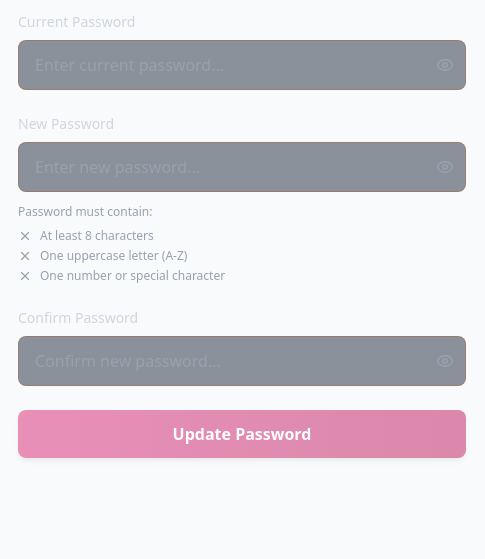
Test case: PasswordChangeForm › shows password mismatch error and disables submit button
This screenshot has width=485, height=559.
In the password field with placeholder "Enter current password...": {"x": 242, "y": 65} [18,40,466,90], type "Current1!"
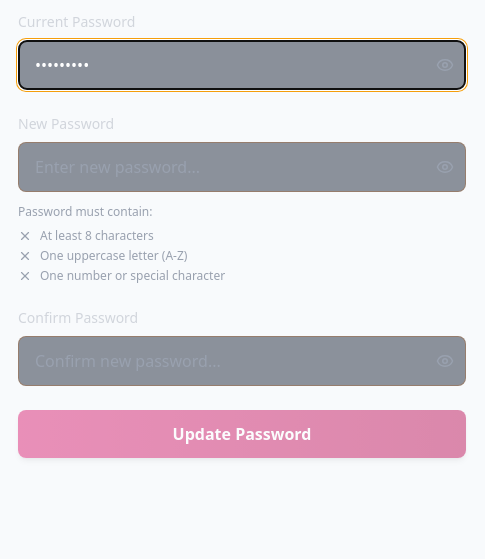
In the password field with placeholder "Enter new password...": {"x": 242, "y": 167} [18,142,466,192], type "ValidPass1!"
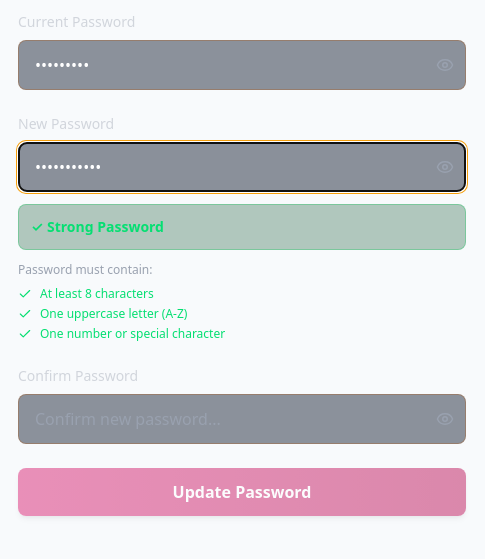
In the password field with placeholder "Confirm new password...": {"x": 242, "y": 419} [18,394,466,444], type "DifferentPass1!"
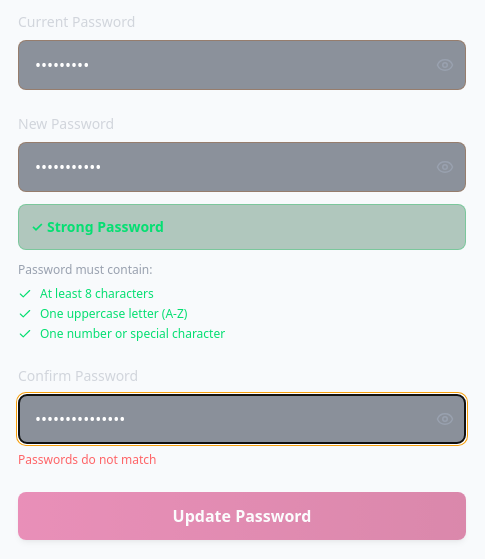
expect the button "Update Password" is disabled: met, box [18,492,466,540]
expect the text "Passwords do not match" is shown: met, box [18,451,156,468]
